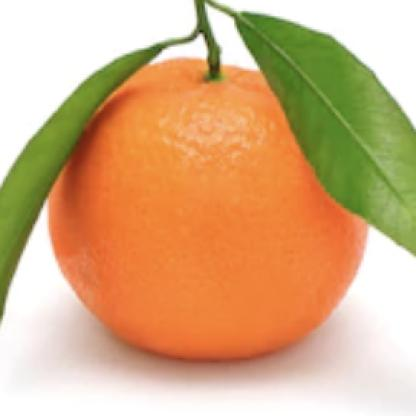fresh: (39, 58, 377, 363)
